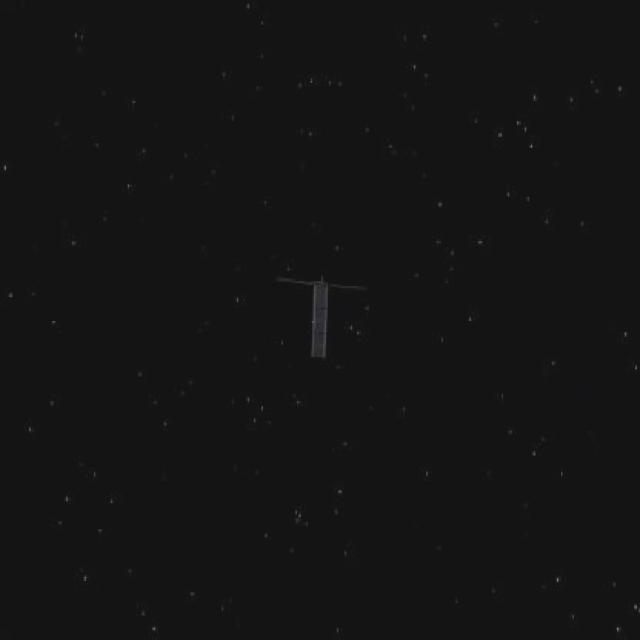satellite: (273, 263, 375, 354)
